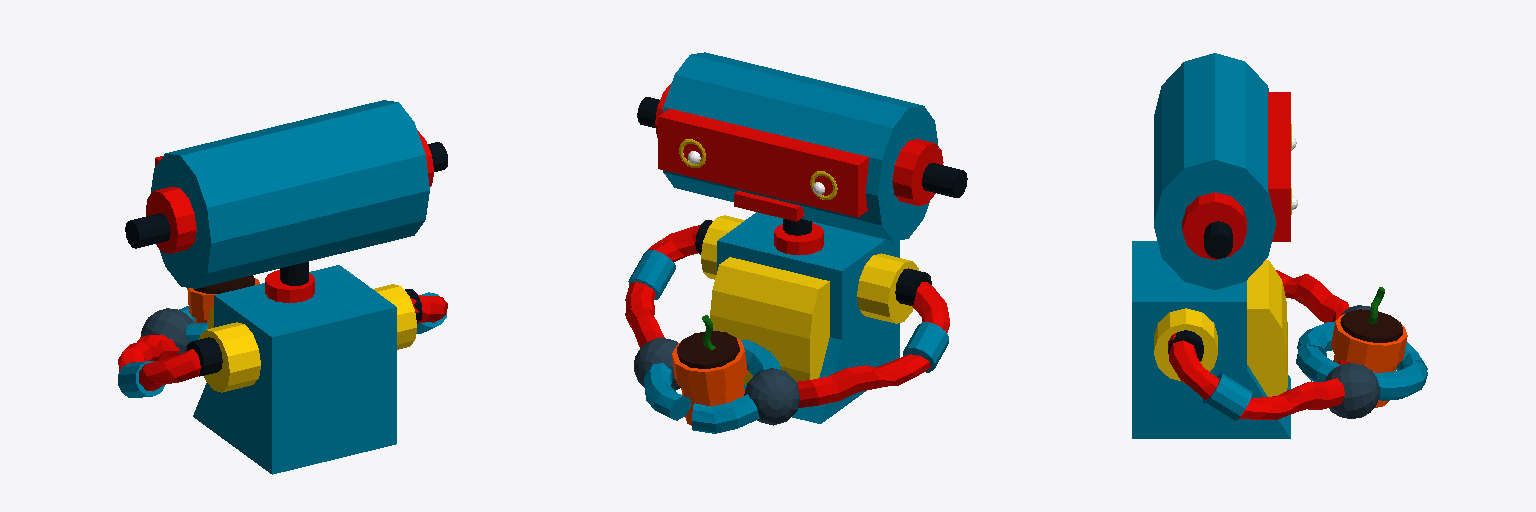
The picture shows the model from 3 angles: view 1: azimuth 30°, elevation 25°; view 2: azimuth 150°, elevation 25°; view 3: azimuth 270°, elevation 25°; orthographic projection.
Visible parts, largest first — view 1: group[number redacted], group[number redacted], group[number redacted], group[number redacted], group[number redacted], group[number redacted], group[number redacted], group[number redacted], group[number redacted], group[number redacted], group[number redacted], group[number redacted] (+3 smaller); view 2: group[number redacted], group[number redacted], group[number redacted], group[number redacted], group[number redacted], group[number redacted], group[number redacted], group[number redacted], group[number redacted], group[number redacted], group[number redacted], group[number redacted] (+10 smaller); view 3: group[number redacted], group[number redacted], group[number redacted], group[number redacted], group[number redacted], group[number redacted], group[number redacted], group[number redacted], group[number redacted], group[number redacted], group[number redacted], group[number redacted] (+3 smaller).
Boxes of the visible parts, box(x1,y1,x2,y2) form: group[number redacted]: box(150, 100, 429, 288); group[number redacted]: box(193, 265, 396, 474); group[number redacted]: box(118, 322, 200, 390); group[number redacted]: box(199, 322, 260, 392); group[number redacted]: box(146, 186, 196, 253); group[number redacted]: box(141, 308, 193, 354); group[number redacted]: box(373, 284, 416, 349); group[number redacted]: box(125, 213, 170, 248); group[number redacted]: box(265, 270, 314, 302); group[number redacted]: box(118, 361, 164, 397); group[number redacted]: box(186, 337, 222, 376); group[number redacted]: box(410, 295, 447, 322); group[number redacted]: box(663, 52, 938, 240); group[number redacted]: box(658, 108, 868, 217); group[number redacted]: box(717, 212, 899, 423); group[number redacted]: box(710, 257, 829, 384); group[number redacted]: box(797, 282, 949, 407); group[number redacted]: box(857, 253, 918, 323); group[number redacted]: box(625, 225, 699, 347); group[number redacted]: box(692, 340, 780, 433); group[number redacted]: box(744, 368, 799, 425); group[number redacted]: box(892, 139, 943, 205); group[number redacted]: box(672, 338, 747, 393); group[number redacted]: box(677, 331, 739, 368); group[number redacted]: box(1154, 53, 1275, 289); group[number redacted]: box(1132, 241, 1290, 438); group[number redacted]: box(1247, 260, 1287, 396); group[number redacted]: box(1168, 333, 1350, 419); group[number redacted]: box(1268, 92, 1290, 241); group[number redacted]: box(1182, 192, 1246, 259); group[number redacted]: box(1296, 338, 1427, 400); group[number redacted]: box(1154, 308, 1217, 380); group[number redacted]: box(1331, 314, 1407, 368); group[number redacted]: box(1325, 363, 1379, 418); group[number redacted]: box(1276, 270, 1349, 322); group[number redacted]: box(1340, 309, 1402, 342).
Size of the model in its own units: 0.5057 by 0.46 by 0.4106.